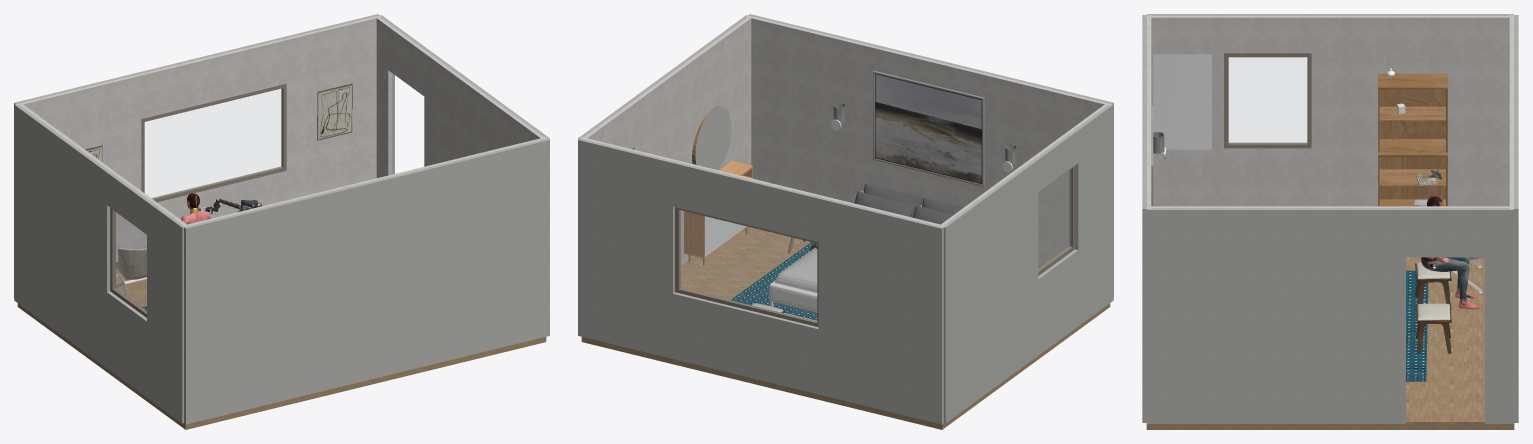
The picture shows the model from 3 angles, left to right: view 1: azimuth 30°, elevation 25°; view 2: azimuth 150°, elevation 25°; view 3: azimuth 270°, elevation 25°; orthographic projection. The views are drawn at different scales.
Visible parts, largest first — view 1: world (×10), glass (×2), room_geometry_bedroom__v0, frame (×2); view 2: world (×11), glass (×2), room_geometry_bedroom__v0, frame (×2), bedroom_rug_0, P_a4732598bed78f1f.001; view 3: world (×12), room_geometry_bedroom__v0, glass, frame, bedroom_rug_0, right_lowerleg_link.
Part boxes in pixels (bbox=[...]): world (×10): bbox=[14, 14, 549, 424]; glass (×2): bbox=[114, 89, 282, 311]; room_geometry_bedroom__v0: bbox=[17, 277, 546, 429]; frame (×2): bbox=[110, 84, 286, 317]; world (×11): bbox=[578, 14, 1113, 424]; glass (×2): bbox=[679, 170, 1070, 321]; room_geometry_bedroom__v0: bbox=[581, 227, 1110, 429]; frame (×2): bbox=[675, 166, 1074, 327]; bedroom_rug_0: bbox=[730, 242, 817, 320]; P_a4732598bed78f1f.001: bbox=[684, 161, 752, 257]; world (×12): bbox=[1142, 14, 1518, 423]; room_geometry_bedroom__v0: bbox=[1146, 257, 1514, 429]; glass: bbox=[1229, 57, 1306, 142]; frame: bbox=[1224, 53, 1311, 148]; bedroom_rug_0: bbox=[1406, 270, 1428, 381]; right_lowerleg_link: bbox=[1458, 267, 1480, 309].
Bounding box in the file's own units: 5.3 × 2.8 × 4.3.
Materials: 55 (26 with a texture image).
